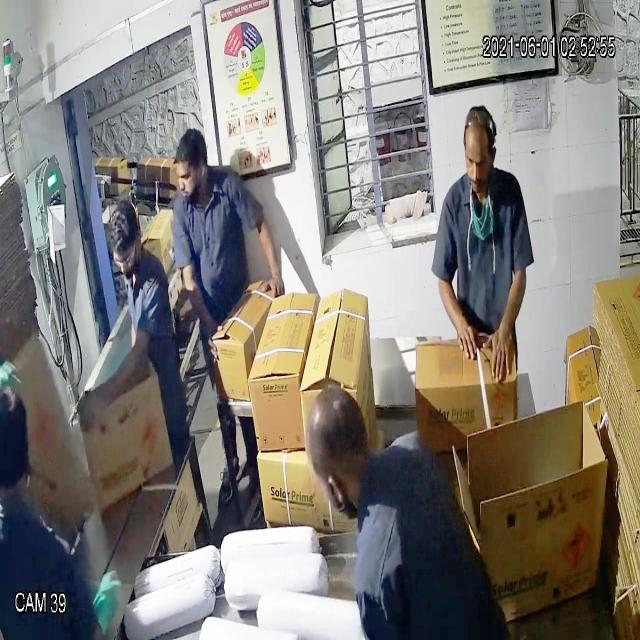glasses: (106, 245, 148, 278)
no-glass: (461, 143, 495, 176)
